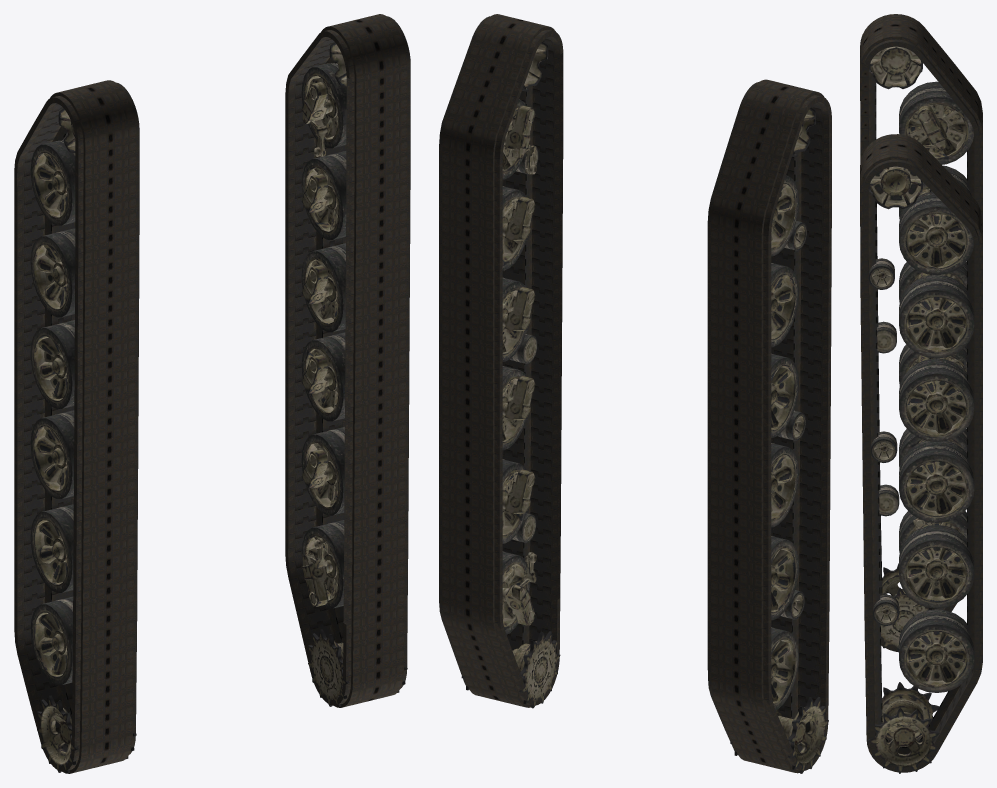
Rendered from Chassis.glb.
The picture shows the model from 3 angles, left to right: view 1: azimuth 30°, elevation 25°; view 2: azimuth 150°, elevation 25°; view 3: azimuth 270°, elevation 25°; orthographic projection. The views are drawn at different scales.
Parts seen in each view (by area): view 1: set_0_group_0, set_1_group_0, set_3_group_0, set_2_group_0; view 2: set_0_group_0, set_1_group_0, set_3_group_0, set_2_group_0; view 3: set_3_group_0, set_1_group_0, set_2_group_0, set_0_group_0.
Part boxes in pixels (bbox=[...]): set_0_group_0: bbox=[14, 80, 139, 773]; set_1_group_0: bbox=[285, 14, 410, 707]; set_3_group_0: bbox=[301, 42, 407, 706]; set_2_group_0: bbox=[30, 108, 136, 773]; set_0_group_0: bbox=[707, 79, 831, 773]; set_1_group_0: bbox=[439, 14, 563, 707]; set_3_group_0: bbox=[461, 42, 560, 708]; set_2_group_0: bbox=[730, 107, 828, 773]; set_3_group_0: bbox=[867, 166, 974, 773]; set_1_group_0: bbox=[860, 134, 982, 772]; set_2_group_0: bbox=[869, 46, 973, 652]; set_0_group_0: bbox=[860, 14, 982, 651].
Bounding box in the file's own units: 3.26 × 6.37 × 1.15.
Materials: 4 (4 with a texture image).
